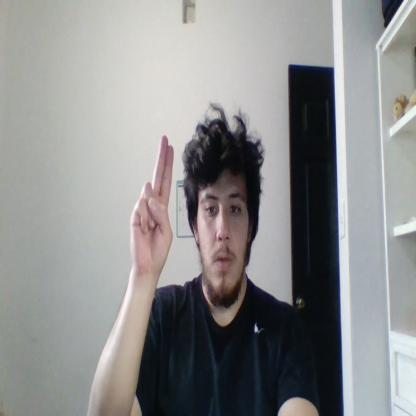U: (131, 135, 173, 277)
